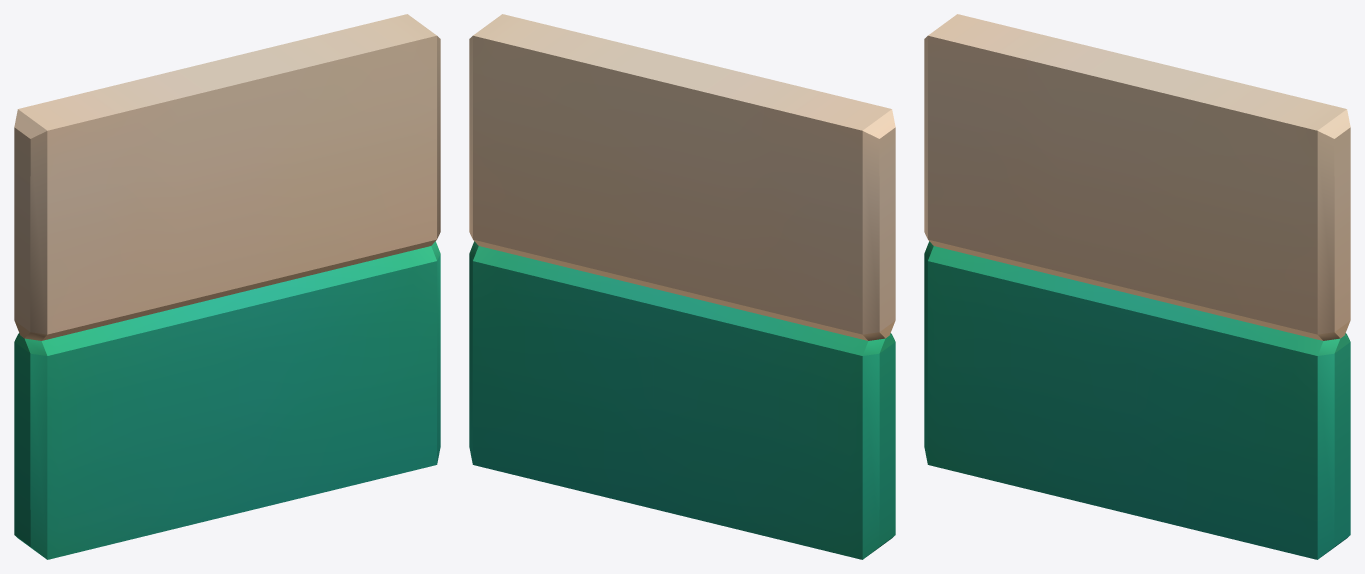
Rendered from kaykit-restaurant-kit.glb.
3 views of the same model, side by side, from view 1: azimuth 30°, elevation 25°; view 2: azimuth 150°, elevation 25°; view 3: azimuth 330°, elevation 25° (orthographic).
Visible parts, largest first — view 1: wall; view 2: wall; view 3: wall.
Boxes of the visible parts, x1,y1,x2,y2 form: wall: (14,14,440,559); wall: (469,14,895,559); wall: (924,14,1350,559).
Size of the model in its own units: 4 by 4 by 0.5.
1 material, 1 textured.
